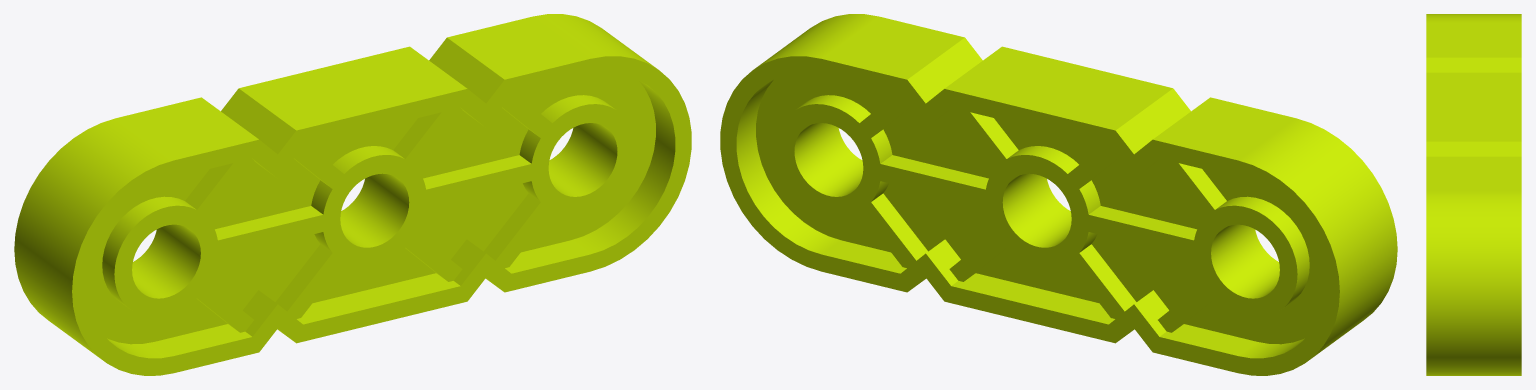
3 renders of one model, left to right at view 1: azimuth 30°, elevation 25°; view 2: azimuth 150°, elevation 25°; view 3: azimuth 270°, elevation 25°, orthographic. The views are drawn at different scales.
Visible parts, largest first — view 1: main_97d700; view 2: main_97d700; view 3: main_97d700.
Boxes of the visible parts, left/top/right/bottom form: main_97d700: left=14, top=14, right=691, bottom=375; main_97d700: left=720, top=14, right=1397, bottom=375; main_97d700: left=1426, top=14, right=1521, bottom=375.
Bounding box in the file's own units: 37.78 × 12.4 × 6.1.
